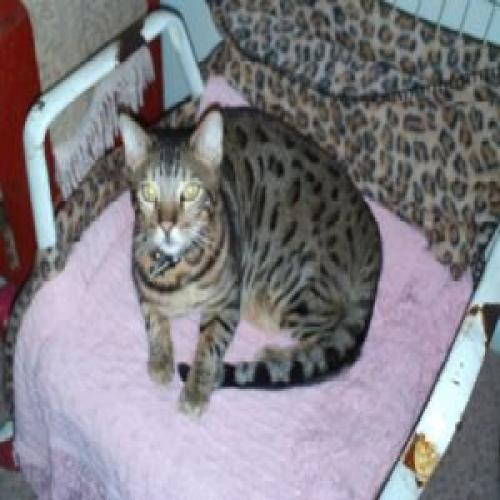cat-face: (115, 116, 225, 258)
